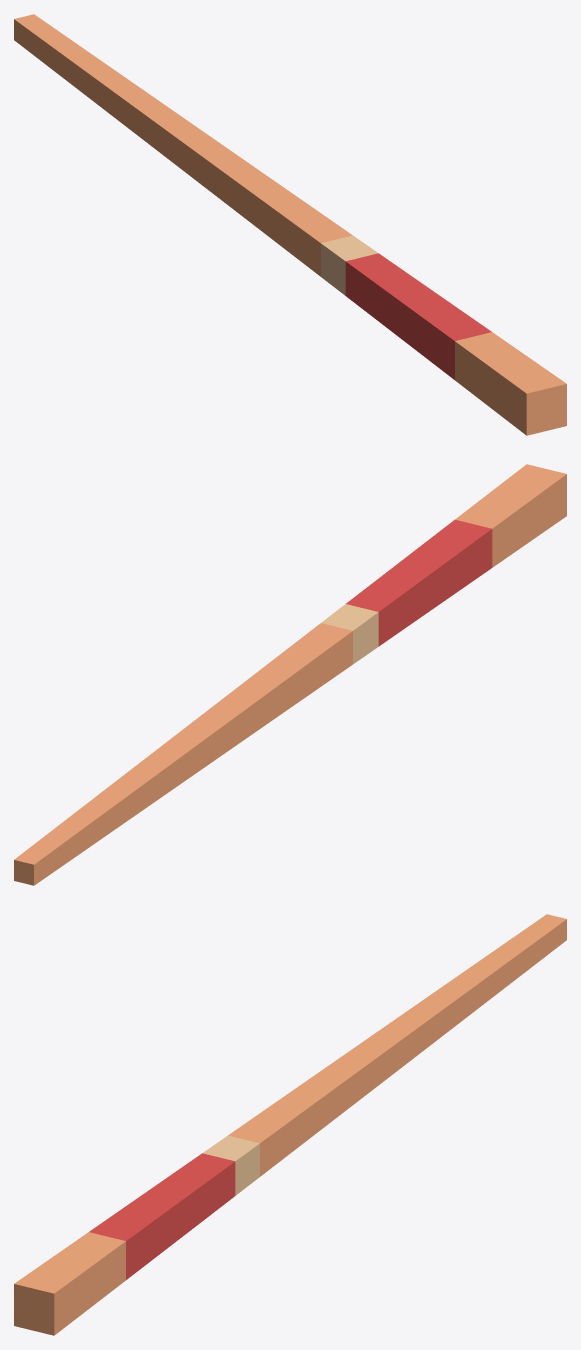
File: chopstickFancy.GLB
3 views of the same model, one above another, from view 1: azimuth 30°, elevation 25°; view 2: azimuth 150°, elevation 25°; view 3: azimuth 330°, elevation 25° (orthographic).
Visible parts, largest first — view 1: chopstickFancy; view 2: chopstickFancy; view 3: chopstickFancy.
Part boxes in pixels (<box>): chopstickFancy: <box>14,14,566,435</box>; chopstickFancy: <box>14,464,566,885</box>; chopstickFancy: <box>14,914,566,1335</box>.
Size of the model in its own units: 0.02 by 0.02 by 0.45.
